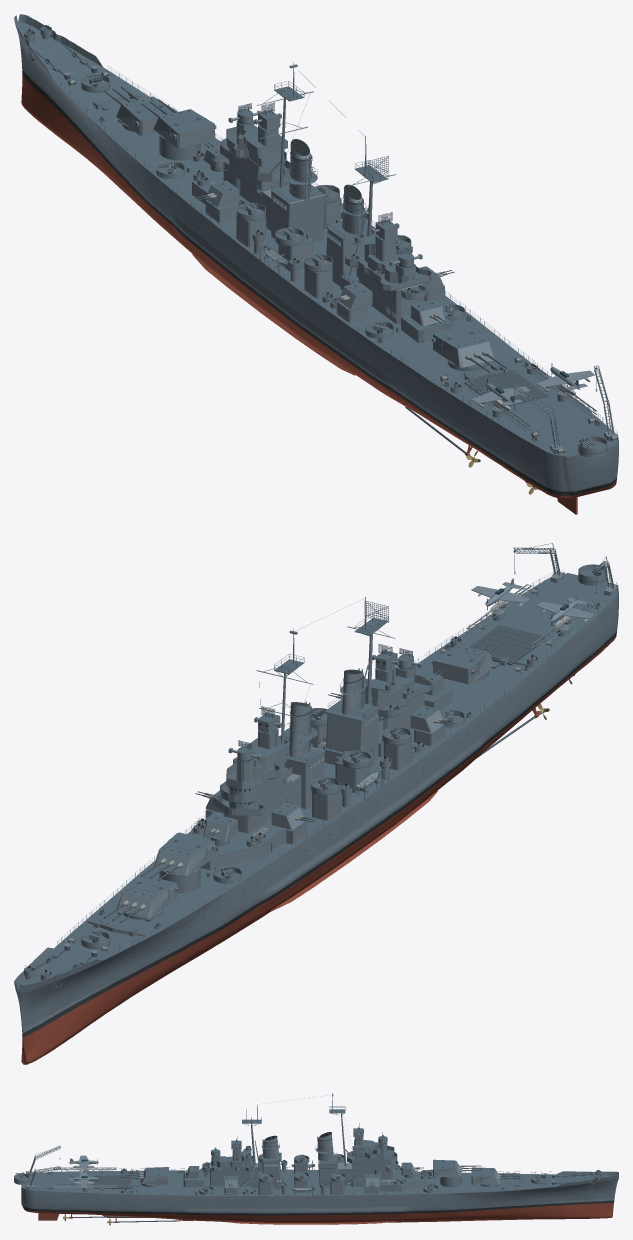
The model's file is baltimore.glb.
3 views of the same model, one above another, from view 1: azimuth 30°, elevation 25°; view 2: azimuth 150°, elevation 25°; view 3: azimuth 270°, elevation 25° (orthographic). The views are drawn at different scales.
Visible parts, largest first — view 1: Blueprint lofted hull, forward-funnel-casing.mesh, main-3.yaw.mesh, main-2.yaw.mesh, after-funnel-casing.mesh, aft-deckhouse.mesh, forward-funnel.mesh, main-1.yaw.mesh, forward-deckhouse.mesh, hangar-coaming.mesh, after-funnel.mesh, foremast.mesh (+12 smaller); view 2: Blueprint lofted hull, after-funnel-casing.mesh, forward-deckhouse.mesh, main-2.yaw.mesh, main-1.yaw.mesh, main-3.yaw.mesh, hangar-coaming.mesh, forward-funnel-casing.mesh, forward-funnel.mesh, after-funnel.mesh, foremast.mesh, mainmast.mesh (+10 smaller); view 3: Blueprint lofted hull, forward-deckhouse.mesh, aft-deckhouse.mesh, hangar-coaming.mesh, main-3.yaw.mesh, main-1.yaw.mesh, main-2.yaw.mesh, hull.mesh.001, hull.mesh, forward-funnel.mesh, forward-funnel-casing.mesh, forward-upper-deck.mesh (+18 smaller).
Part boxes in pixels (left/top/right/bottom): Blueprint lofted hull: left=16, top=22, right=618, bottom=498; forward-funnel-casing.mesh: left=271, top=181, right=324, bottom=241; main-3.yaw.mesh: left=431, top=324, right=494, bottom=367; main-2.yaw.mesh: left=153, top=109, right=216, bottom=148; after-funnel-casing.mesh: left=325, top=215, right=375, bottom=286; aft-deckhouse.mesh: left=356, top=268, right=424, bottom=323; forward-funnel.mesh: left=282, top=139, right=317, bottom=200; main-1.yaw.mesh: left=116, top=96, right=177, bottom=135; forward-deckhouse.mesh: left=192, top=160, right=271, bottom=230; hangar-coaming.mesh: left=462, top=369, right=548, bottom=405; after-funnel.mesh: left=340, top=184, right=366, bottom=234; foremast.mesh: left=257, top=62, right=313, bottom=187; Blueprint lofted hull: left=15, top=573, right=618, bottom=1064; after-funnel-casing.mesh: left=325, top=694, right=378, bottom=759; forward-deckhouse.mesh: left=192, top=796, right=306, bottom=870; main-2.yaw.mesh: left=153, top=832, right=216, bottom=875; main-1.yaw.mesh: left=116, top=874, right=178, bottom=917; main-3.yaw.mesh: left=431, top=644, right=494, bottom=684; hangar-coaming.mesh: left=469, top=625, right=547, bottom=665; forward-funnel-casing.mesh: left=280, top=736, right=324, bottom=809; forward-funnel.mesh: left=284, top=701, right=317, bottom=756; after-funnel.mesh: left=340, top=668, right=366, bottom=714; foremast.mesh: left=256, top=628, right=313, bottom=771; mainmast.mesh: left=297, top=596, right=395, bottom=705; Blueprint lofted hull: left=21, top=1169, right=618, bottom=1222; forward-deckhouse.mesh: left=344, top=1167, right=427, bottom=1193; aft-deckhouse.mesh: left=210, top=1162, right=258, bottom=1186; hangar-coaming.mesh: left=93, top=1175, right=131, bottom=1188; main-3.yaw.mesh: left=140, top=1167, right=168, bottom=1184; main-1.yaw.mesh: left=471, top=1167, right=499, bottom=1184; main-2.yaw.mesh: left=433, top=1159, right=461, bottom=1177; hull.mesh.001: left=102, top=1215, right=396, bottom=1224; hull.mesh: left=556, top=1171, right=618, bottom=1186; forward-funnel.mesh: left=315, top=1132, right=333, bottom=1160; forward-funnel-casing.mesh: left=318, top=1153, right=337, bottom=1187; forward-upper-deck.mesh: left=338, top=1162, right=380, bottom=1179.
Size of the model in its own units: 25.18 by 47.69 by 205.
Materials: 13 (7 with a texture image).
